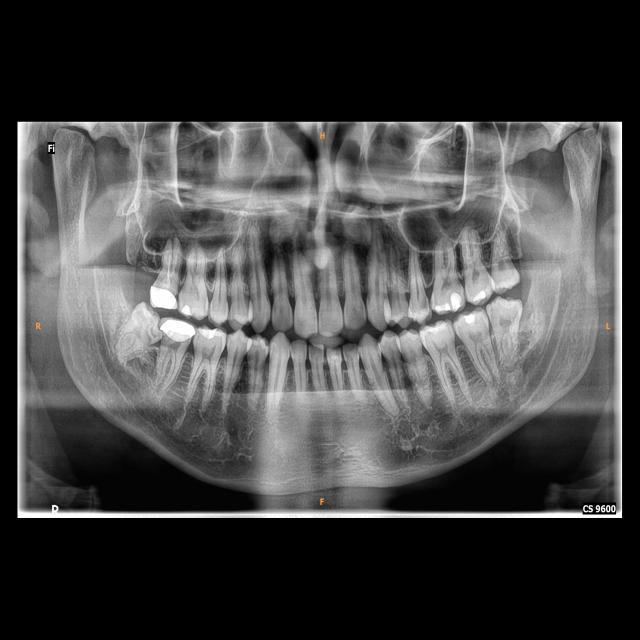dolgu: (429, 288, 463, 312), (464, 283, 492, 307), (455, 312, 484, 331), (200, 324, 222, 344), (178, 300, 200, 318)
kanal-tedavisi: (158, 248, 180, 286)
kaplama: (147, 280, 179, 310), (159, 319, 197, 342)
